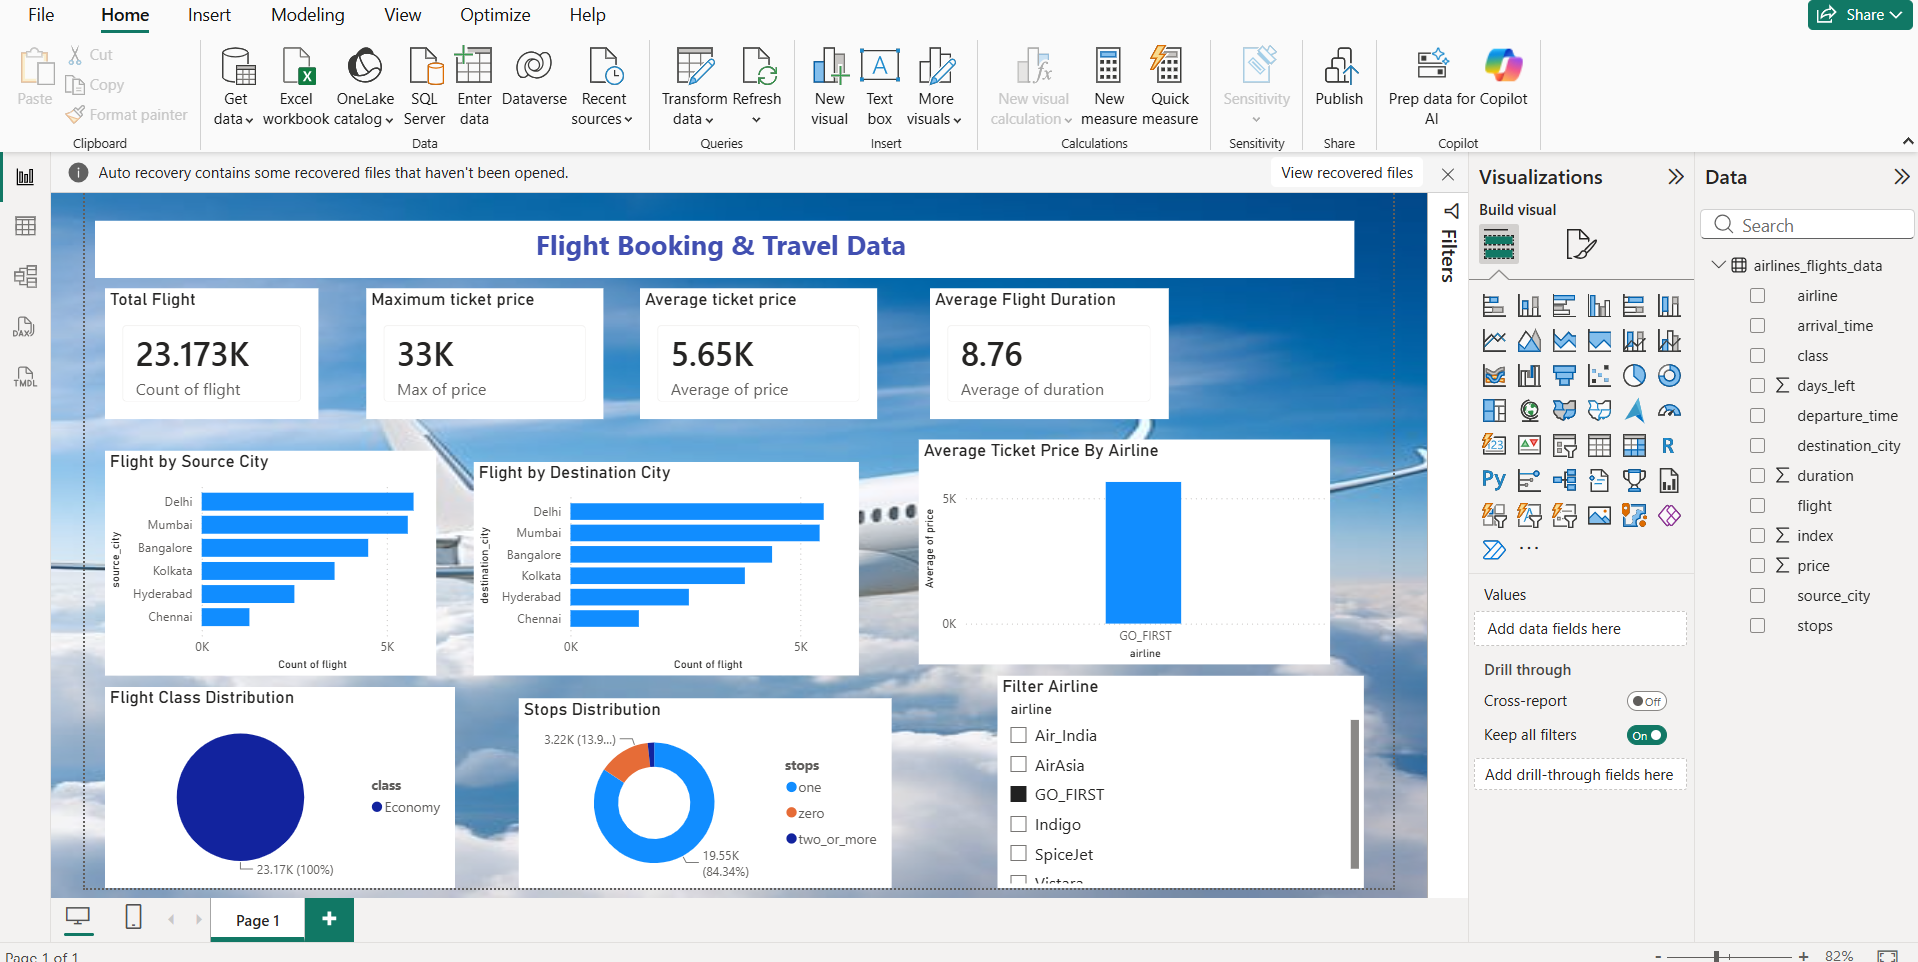

The page's visual inventory and layout, read from the dashboard file:
{"tool":"powerbi","page":{"name":"Page 1","canvas":[1280,720],"ordinal":0},"visuals":[{"type":"textbox","box":[9.6,67.2,1232.3,56.3],"z":0},{"type":"cardVisual","title":"Total Flight","fields":{"Data":["CountNonNull(airlines_flights_data.flight)"]},"box":[19.6,133.3,209.1,128.4],"z":1000},{"type":"cardVisual","title":"Average ticket price","fields":{"Data":["Avg(airlines_flights_data.price)"]},"box":[542.9,133.3,232.3,128.4],"z":2000},{"type":"cardVisual","title":"Maximum ticket price","fields":{"Data":["Max(airlines_flights_data.price)"]},"box":[275.1,133.3,232.3,128.4],"z":3000},{"type":"cardVisual","title":"Average Flight Duration","fields":{"Data":["Avg(airlines_flights_data.duration)"]},"box":[826.6,133.3,233.6,128.4],"z":4000},{"type":"clusteredColumnChart","title":"Average Ticket Price By Airline","fields":{"Category":["airlines_flights_data.airline"],"Y":["Avg(airlines_flights_data.price)"]},"box":[815.6,281.3,402.3,220.1],"z":5000},{"type":"clusteredBarChart","title":"Flight by Source City","fields":{"Category":["airlines_flights_data.source_city"],"Y":["CountNonNull(airlines_flights_data.flight)"]},"box":[19.6,292.3,324.1,220.1],"z":6000},{"type":"clusteredBarChart","title":"Flight by Destination City","fields":{"Category":["airlines_flights_data.destination_city"],"Y":["CountNonNull(airlines_flights_data.flight)"]},"box":[380.3,303.3,376.6,209.1],"z":7000},{"type":"pieChart","title":"Flight Class Distribution","fields":{"Category":["airlines_flights_data.class"],"Y":["CountNonNull(airlines_flights_data.flight)"]},"box":[19.6,523.4,342.4,196.9],"z":8000},{"type":"donutChart","title":"Stops Distribution","fields":{"Category":["airlines_flights_data.stops"],"Y":["CountNonNull(airlines_flights_data.flight)"]},"box":[424.3,534.4,364.4,185.9],"z":8001},{"type":"slicer","title":"Filter Airline","fields":{"Values":["airlines_flights_data.airline"]},"box":[892.7,512.4,358.3,207.9],"z":8002}]}

Visuals, with their boxes on the page's 1280x720 design canvas (x1, y1, x2, y2). These are canvas units, not pixel positions in the 1918x962 screenshot, which may show the page scaled, cropped or inside an application window:
textbox: <bbox>10, 67, 1242, 124</bbox>
"Total Flight" cardVisual: <bbox>20, 133, 229, 262</bbox>
"Average ticket price" cardVisual: <bbox>543, 133, 775, 262</bbox>
"Maximum ticket price" cardVisual: <bbox>275, 133, 507, 262</bbox>
"Average Flight Duration" cardVisual: <bbox>827, 133, 1060, 262</bbox>
"Average Ticket Price By Airline" clusteredColumnChart: <bbox>816, 281, 1218, 501</bbox>
"Flight by Source City" clusteredBarChart: <bbox>20, 292, 344, 512</bbox>
"Flight by Destination City" clusteredBarChart: <bbox>380, 303, 757, 512</bbox>
"Flight Class Distribution" pieChart: <bbox>20, 523, 362, 720</bbox>
"Stops Distribution" donutChart: <bbox>424, 534, 789, 720</bbox>
"Filter Airline" slicer: <bbox>893, 512, 1251, 720</bbox>
